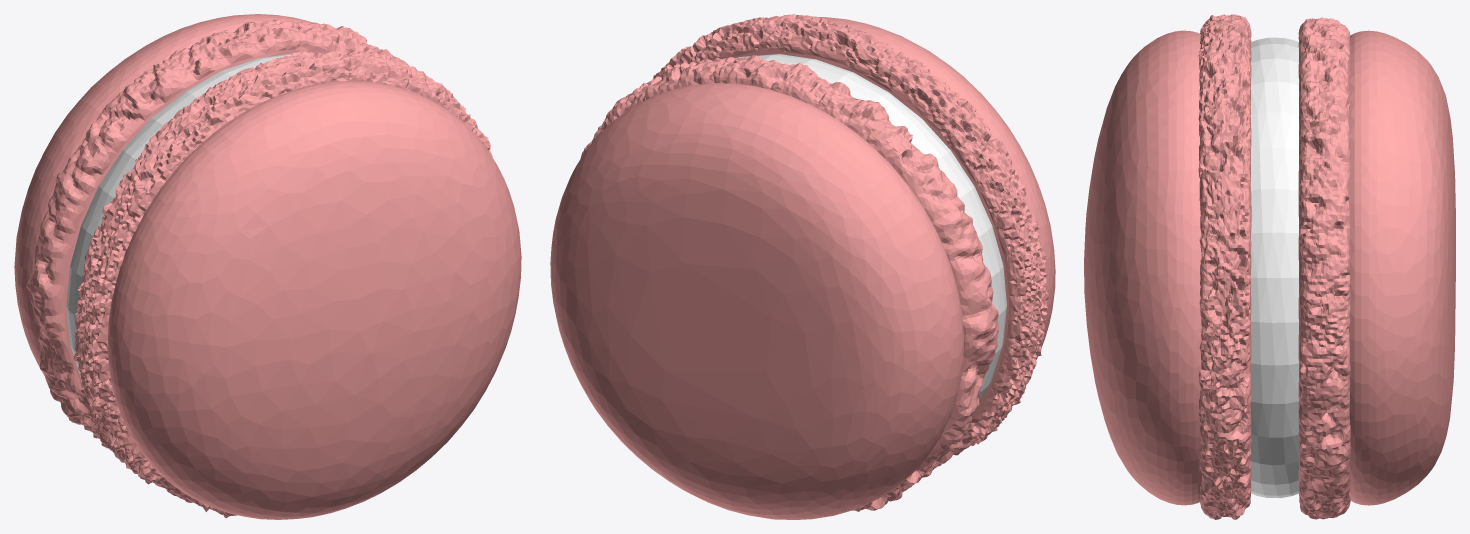
Rendered from macaroon_P.glb.
The picture shows the model from 3 angles, left to right: view 1: azimuth 30°, elevation 25°; view 2: azimuth 150°, elevation 25°; view 3: azimuth 270°, elevation 25°; orthographic projection. The views are drawn at different scales.
Parts seen in each view (by area): view 1: Cube.652; view 2: Cube.652; view 3: Cube.652.
Part boxes in pixels (x1,y1,x2,y2): Cube.652: [14, 14, 521, 519]; Cube.652: [550, 14, 1055, 519]; Cube.652: [1084, 14, 1455, 519].
Size of the model in its own units: 15.73 by 15.85 by 11.55.
